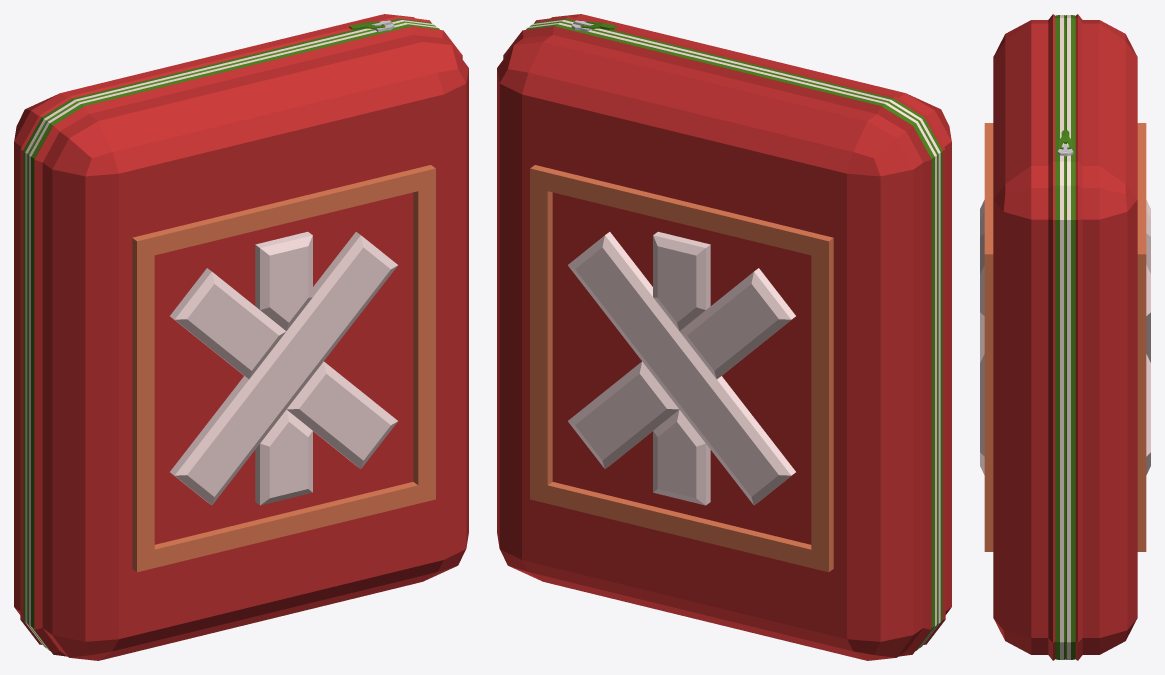
File: MedKitV1.glb
The picture shows the model from 3 angles, left to right: view 1: azimuth 30°, elevation 25°; view 2: azimuth 150°, elevation 25°; view 3: azimuth 270°, elevation 25°; orthographic projection. The views are drawn at different scales.
Parts seen in each view (by area): view 1: MedKitV1; view 2: MedKitV1; view 3: MedKitV1.
Boxes of the visible parts, x1,y1,x2,y2 form: MedKitV1: [14, 14, 468, 660]; MedKitV1: [497, 14, 951, 660]; MedKitV1: [980, 14, 1150, 660].
Size of the model in its own units: 0.2437 by 0.3046 by 0.0937.
1 material, 1 textured.
